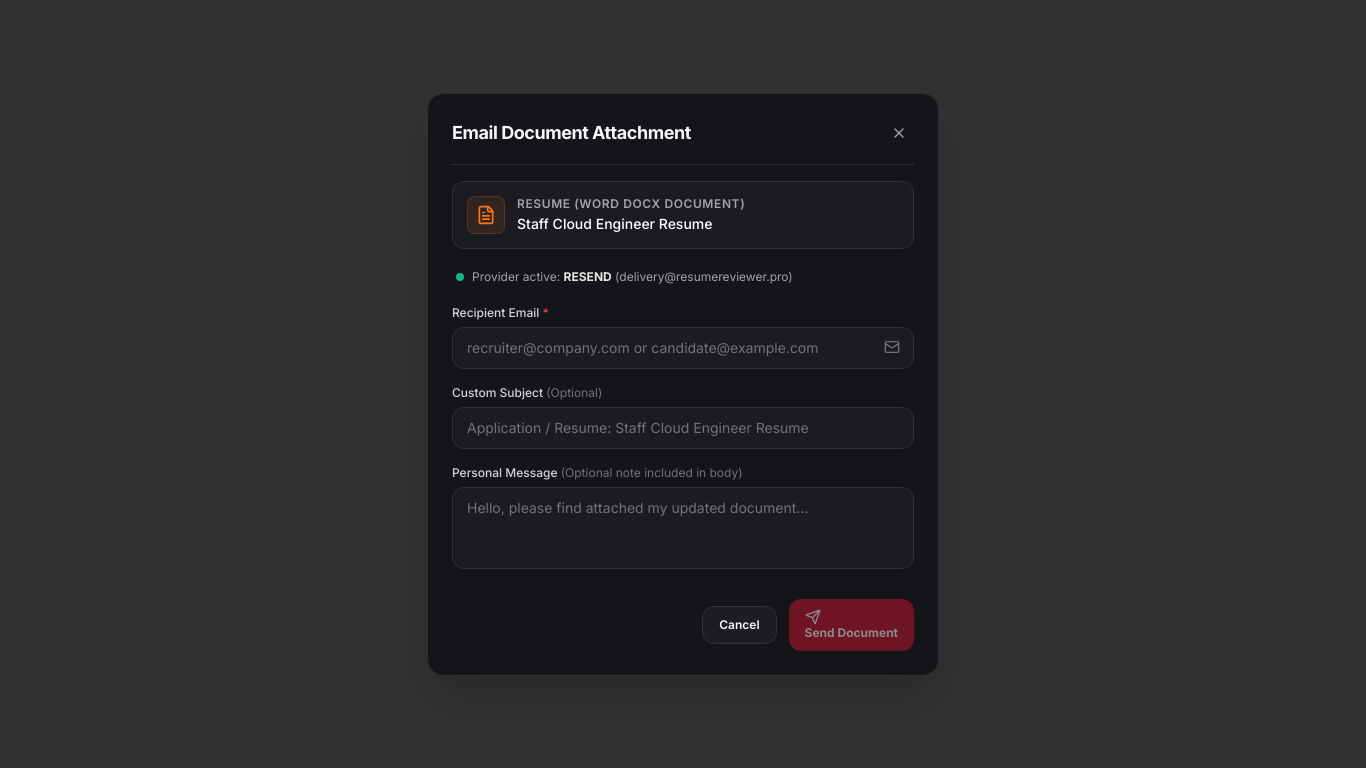
Scenario: EmailModal Component › validates recipient email address before submission
Expected: the text "Provider active: resend (delivery@resumereviewer.pro)" is shown, [472,268,793,284]
Type "not-an-email" into the field with placeholder "recruiter@company.com or candidate@example.com" at (683, 348), box [452,326,914,368]
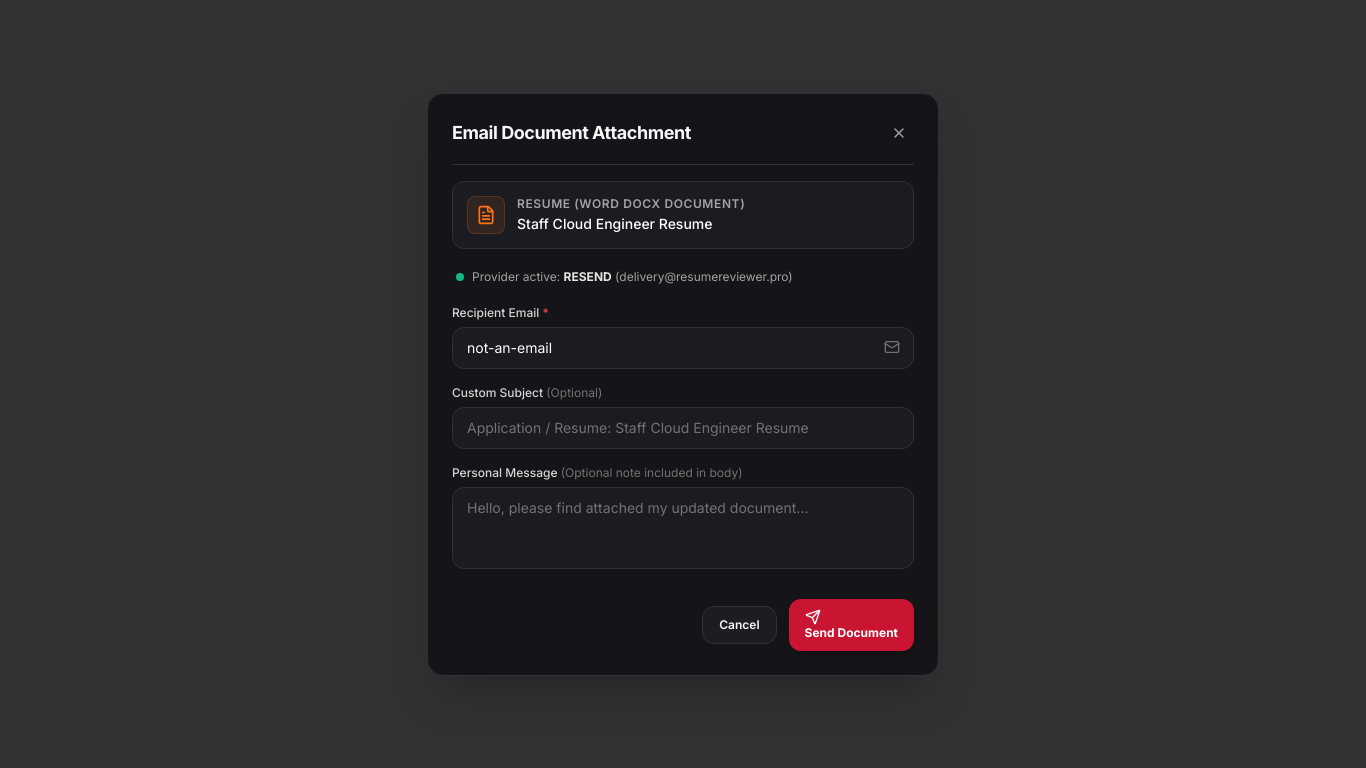
Submit the form with placeholder "recruiter@company.com", box [452,304,914,650]
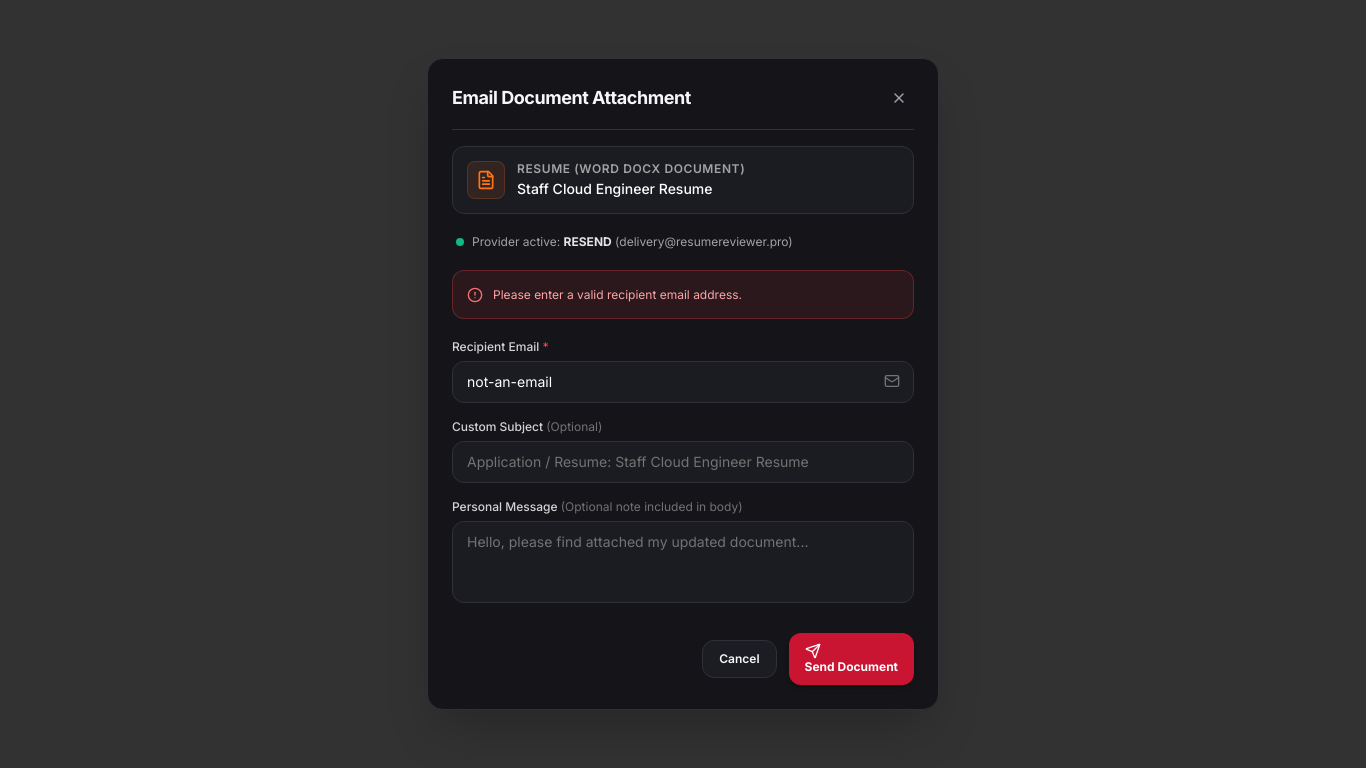
Result: the text "Please enter a valid recipient email address." is shown at [493,285,742,304]
